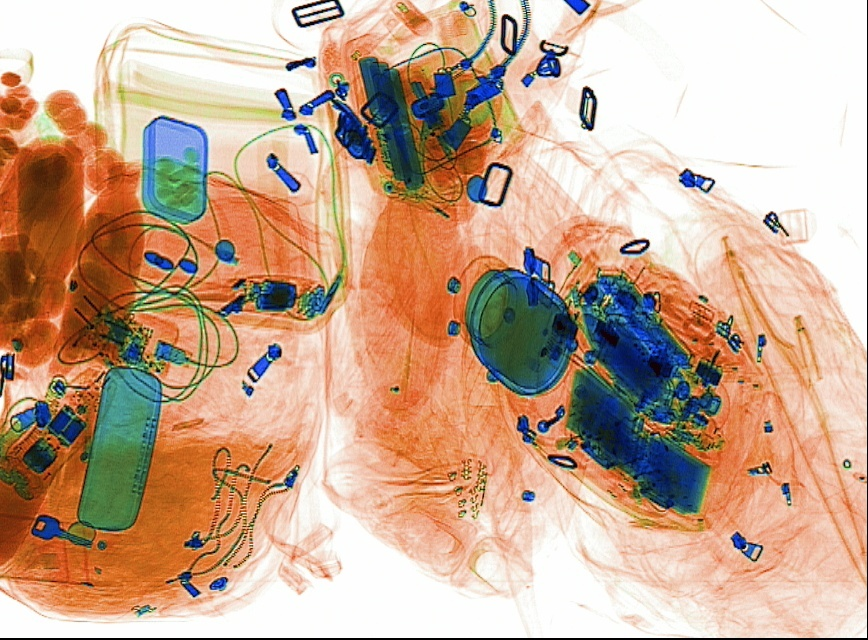powerbank: (355, 52, 425, 194)
